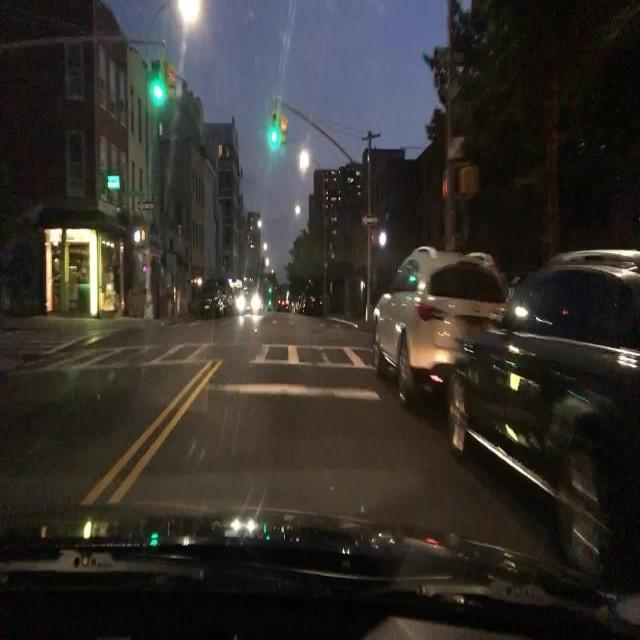normal: (374, 248, 512, 409)
